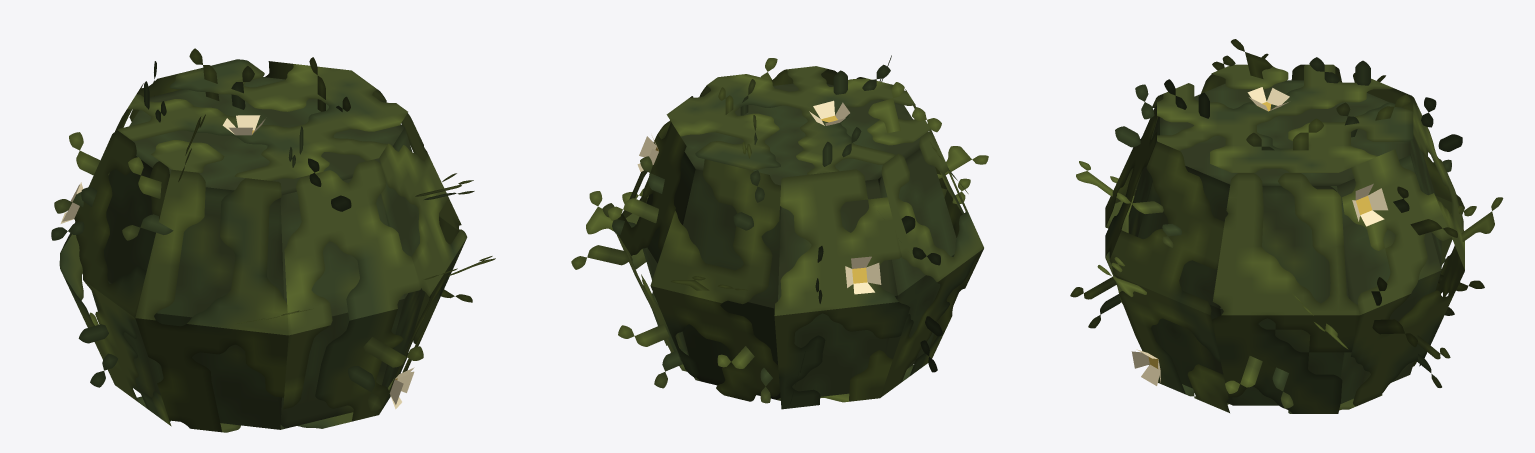
The model's file is Bush.fbx.
3 views of the same model, side by side, from view 1: azimuth 30°, elevation 25°; view 2: azimuth 150°, elevation 25°; view 3: azimuth 270°, elevation 25° (orthographic). The views are drawn at different scales.
Parts seen in each view (by area): view 1: cylinder_1, cylinder, plane_29, plane_43, plane_39, plane_20, plane_31, plane_30, plane_28; view 2: cylinder_1, cylinder, plane_44, plane_26, plane_25, plane_37, plane_32, plane_35, plane_38, plane_22, plane_24, plane_30; view 3: cylinder_1, cylinder, plane_36, plane_29, plane_37, plane_28, plane_44, plane_33, plane_27, plane_25, plane_42, plane_21 (+6 smaller).
Part boxes in pixels (left/top/right/bottom): cylinder_1: left=59, top=59, right=467, bottom=432; cylinder: left=91, top=77, right=425, bottom=429; plane_29: left=348, top=337, right=423, bottom=410; plane_43: left=122, top=157, right=173, bottom=240; plane_39: left=54, top=132, right=109, bottom=213; plane_20: left=189, top=48, right=254, bottom=109; plane_31: left=78, top=324, right=117, bottom=387; plane_30: left=51, top=187, right=97, bottom=240; plane_28: left=308, top=158, right=351, bottom=211; cylinder_1: left=616, top=66, right=983, bottom=409; cylinder: left=642, top=83, right=956, bottom=400; plane_44: left=868, top=82, right=941, bottom=133; plane_26: left=618, top=324, right=687, bottom=388; plane_25: left=608, top=156, right=664, bottom=223; plane_37: left=571, top=203, right=635, bottom=269; plane_32: left=937, top=146, right=988, bottom=203; plane_35: left=586, top=188, right=648, bottom=234; plane_38: left=717, top=346, right=772, bottom=403; plane_22: left=833, top=64, right=890, bottom=94; plane_24: left=733, top=170, right=764, bottom=230; plane_30: left=901, top=216, right=940, bottom=265; cylinder_1: left=1105, top=64, right=1464, bottom=413; cylinder: left=1128, top=80, right=1441, bottom=405; plane_36: left=1225, top=356, right=1293, bottom=408; plane_29: left=1070, top=277, right=1121, bottom=328; plane_37: left=1371, top=277, right=1417, bottom=347; plane_28: left=1115, top=84, right=1154, bottom=147; plane_44: left=1212, top=39, right=1272, bottom=78; plane_33: left=1451, top=197, right=1503, bottom=241; plane_27: left=1117, top=192, right=1181, bottom=247; plane_25: left=1393, top=186, right=1457, bottom=237; plane_42: left=1246, top=118, right=1323, bottom=150; plane_21: left=1309, top=57, right=1370, bottom=85.
Bounding box in the file's own units: 197 × 139 × 189.
1 material, 1 textured.
